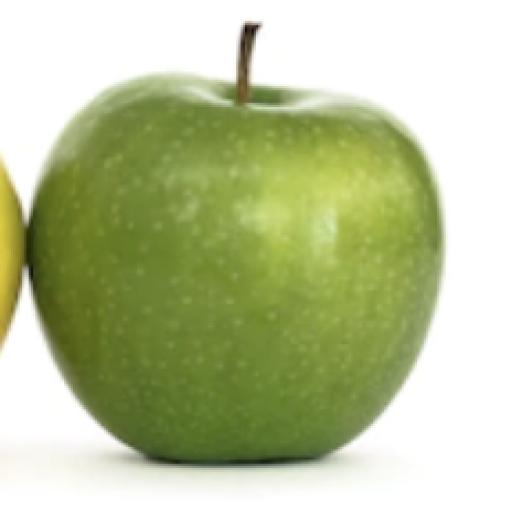apple: (29, 70, 443, 461), (0, 162, 24, 344)
